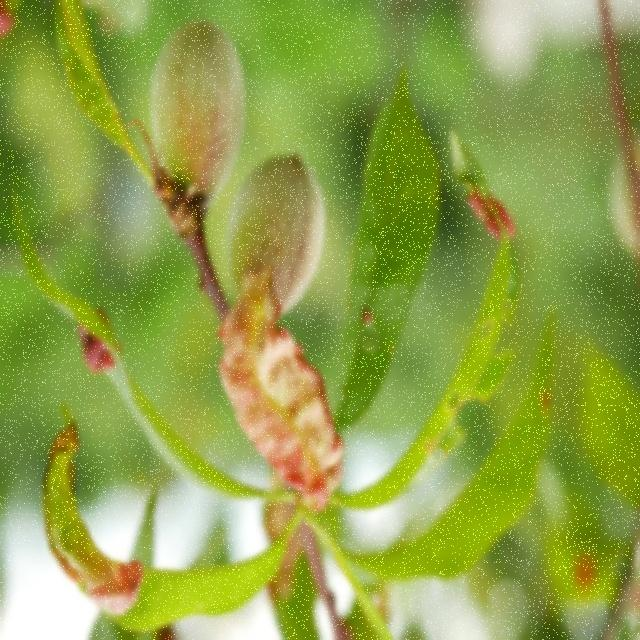leaf_curl: (163, 270, 368, 556)
